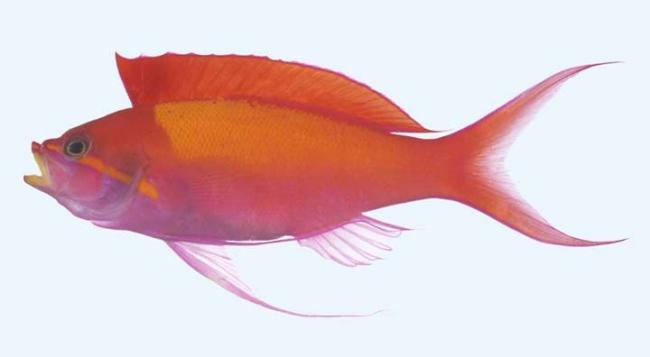fish: (23, 52, 631, 318)
